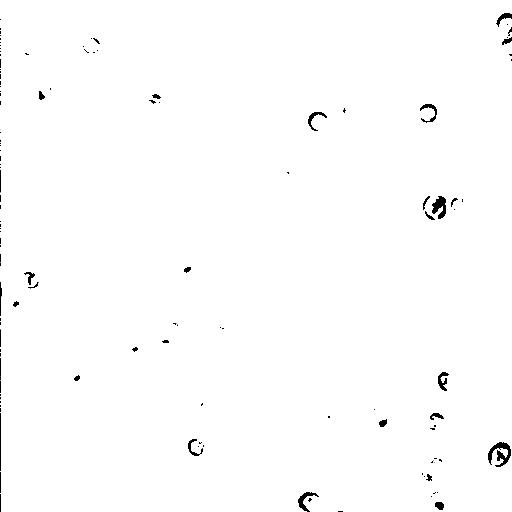micro-algae: (60, 417, 125, 483), (371, 15, 413, 57), (427, 188, 464, 223), (173, 255, 205, 287), (365, 406, 399, 435), (63, 363, 92, 394), (191, 387, 217, 419), (32, 78, 59, 106), (327, 93, 355, 120), (484, 441, 511, 468), (1, 290, 29, 316), (271, 162, 301, 186), (121, 339, 147, 366), (421, 455, 446, 483), (424, 490, 455, 512), (423, 194, 447, 220), (157, 320, 184, 343), (15, 37, 43, 59), (304, 109, 329, 131), (297, 491, 324, 511), (417, 101, 440, 123), (437, 370, 457, 393), (493, 9, 511, 34), (19, 271, 40, 291), (81, 36, 101, 55), (426, 411, 445, 431), (187, 437, 205, 457), (449, 193, 467, 211), (501, 31, 511, 63)
